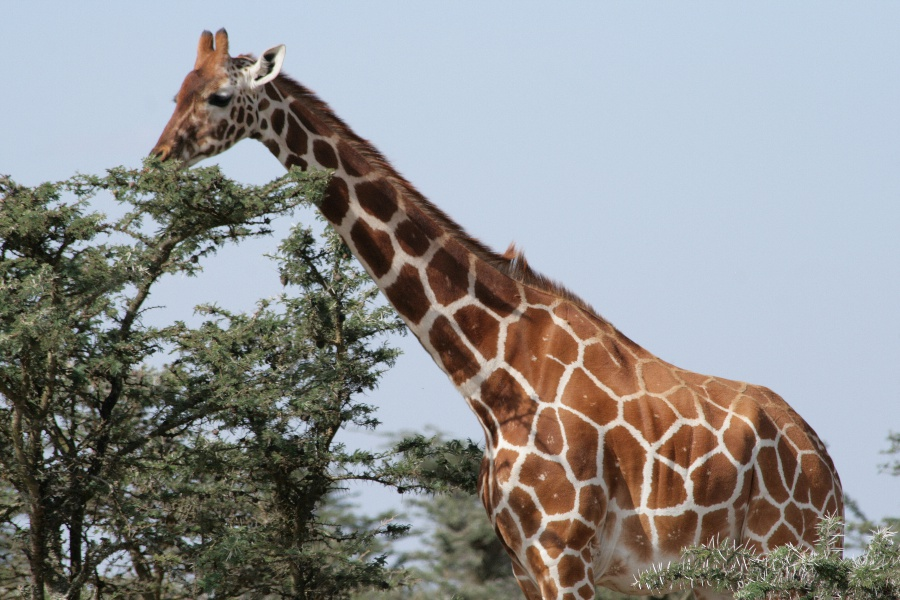giraffe: (129, 22, 843, 597)
